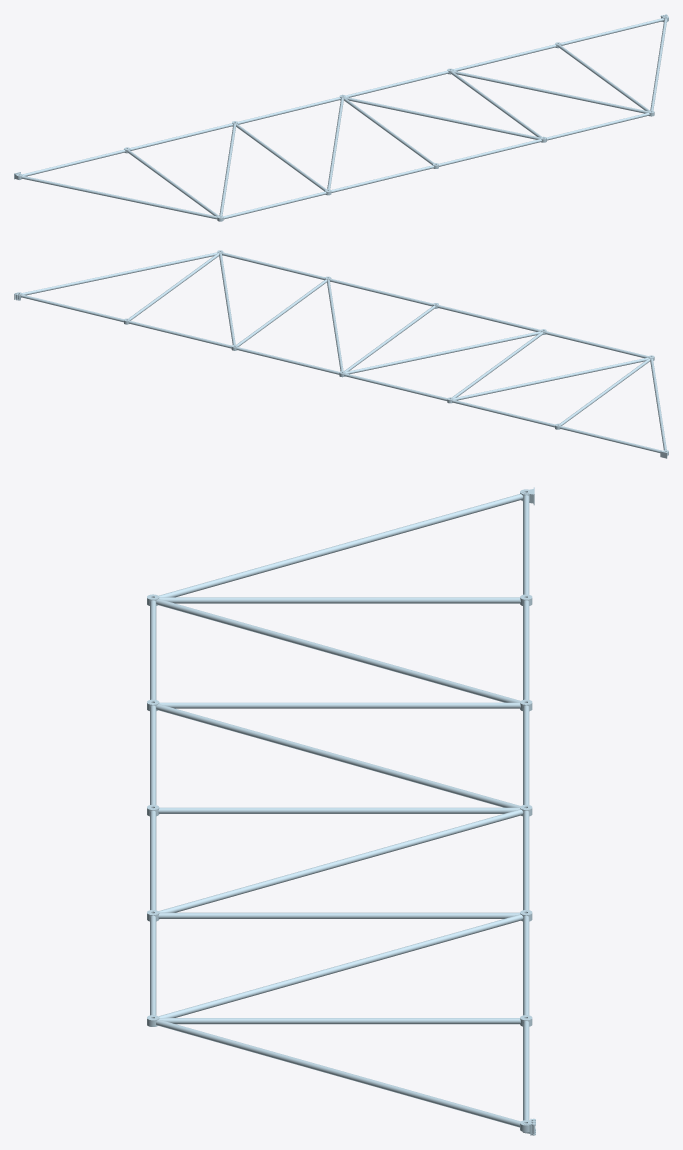
The model's file is Statics_problem.fbx.
3 renders of one model, top to bottom at view 1: azimuth 30°, elevation 25°; view 2: azimuth 150°, elevation 25°; view 3: azimuth 270°, elevation 25°, orthographic. The views are drawn at different scales.
Parts seen in each view (by area): view 1: mesh9.004, mesh9.001, mesh9.003, mesh18.001, mesh18, mesh18.002, mesh18.003, mesh18.004, mesh0.003, mesh0.009, mesh0, mesh0.001 (+9 smaller); view 2: mesh9.002, mesh9.005, mesh9, mesh18.002, mesh18.004, mesh18, mesh18.001, mesh18.003, mesh0.006, mesh0.007, mesh0.002, mesh0.009 (+9 smaller); view 3: mesh9.005, mesh9.004, mesh9.002, mesh9, mesh9.001, mesh9.003, mesh18.003, mesh18, mesh18.001, mesh18.002, mesh18.004.
Boxes of the visible parts, x1=… form: mesh9.004: x1=21, y1=175, x2=217, y2=219; mesh9.001: x1=345, y1=97, x2=540, y2=139; mesh9.003: x1=453, y1=70, x2=648, y2=113; mesh18.001: x1=235, y1=123, x2=326, y2=191; mesh18: x1=343, y1=97, x2=434, y2=165; mesh18.002: x1=127, y1=150, x2=218, y2=216; mesh18.003: x1=450, y1=71, x2=541, y2=137; mesh18.004: x1=558, y1=45, x2=649, y2=111; mesh0.003: x1=130, y1=123, x2=233, y2=150; mesh0.009: x1=331, y1=165, x2=434, y2=192; mesh0: x1=223, y1=191, x2=326, y2=219; mesh0.001: x1=561, y1=18, x2=664, y2=45; mesh9.002: x1=453, y1=357, x2=648, y2=400; mesh9.005: x1=22, y1=252, x2=217, y2=295; mesh9: x1=345, y1=331, x2=540, y2=374; mesh18.002: x1=559, y1=358, x2=650, y2=425; mesh18.004: x1=128, y1=253, x2=219, y2=320; mesh18: x1=344, y1=305, x2=435, y2=371; mesh18.001: x1=452, y1=332, x2=543, y2=398; mesh18.003: x1=236, y1=279, x2=326, y2=346; mesh0.006: x1=344, y1=373, x2=447, y2=400; mesh0.007: x1=128, y1=321, x2=231, y2=348; mesh0.002: x1=329, y1=278, x2=432, y2=306; mesh0.009: x1=437, y1=305, x2=540, y2=331; mesh9.005: x1=156, y1=1019, x2=520, y2=1127; mesh9.004: x1=159, y1=493, x2=523, y2=597; mesh9.002: x1=156, y1=599, x2=520, y2=702; mesh9: x1=156, y1=704, x2=520, y2=807; mesh9.001: x1=158, y1=809, x2=523, y2=912; mesh9.003: x1=159, y1=914, x2=523, y2=1017; mesh18.003: x1=158, y1=912, x2=519, y2=918; mesh18: x1=158, y1=807, x2=519, y2=813; mesh18.001: x1=159, y1=702, x2=520, y2=708; mesh18.002: x1=159, y1=597, x2=520, y2=603; mesh18.004: x1=159, y1=1018, x2=520, y2=1024.
Size of the model in its own units: 1212 by 10 by 313.
